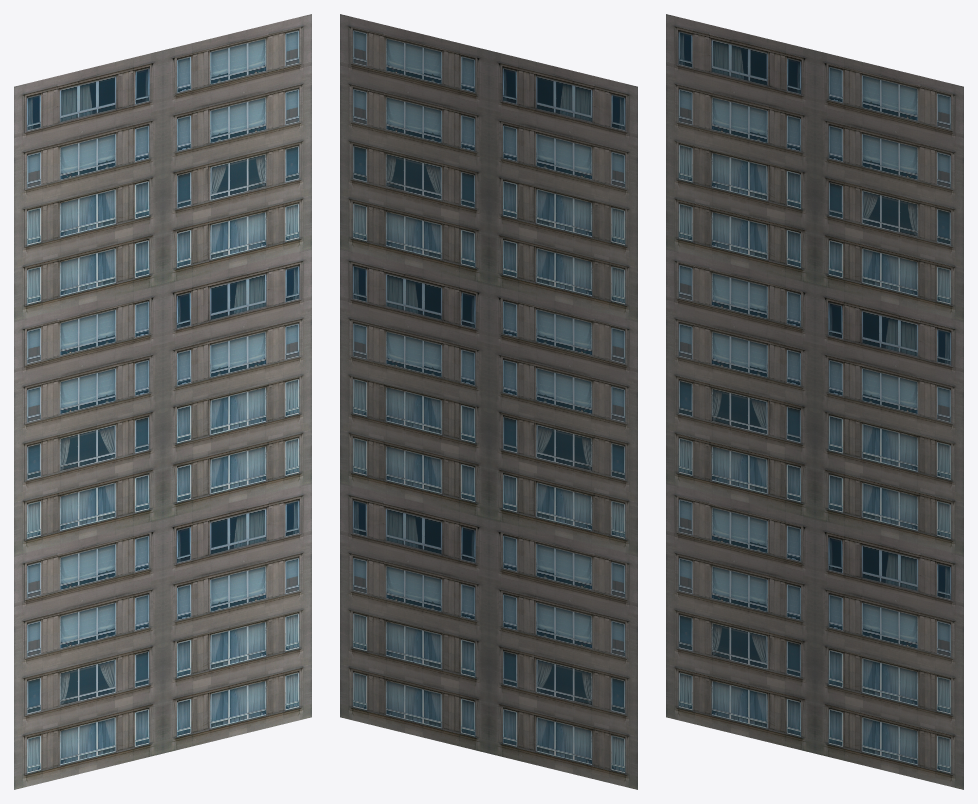
Rendered from predio5.fbx.
3 renders of one model, left to right at view 1: azimuth 30°, elevation 25°; view 2: azimuth 150°, elevation 25°; view 3: azimuth 330°, elevation 25°, orthographic.
Visible parts, largest first — view 1: TexturesCom_HighRiseResidential0053_S; view 2: TexturesCom_HighRiseResidential0053_S; view 3: TexturesCom_HighRiseResidential0053_S.
Boxes of the visible parts, <box> form: TexturesCom_HighRiseResidential0053_S: <box>14,14,311,789</box>; TexturesCom_HighRiseResidential0053_S: <box>340,14,637,789</box>; TexturesCom_HighRiseResidential0053_S: <box>666,14,963,789</box>.
Bounding box in the file's own units: 2560 × 5777 × 2.23.
